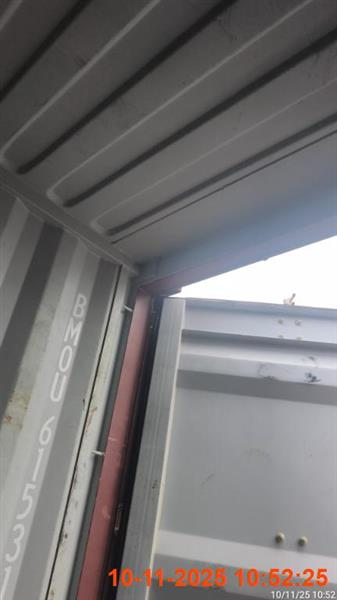rust: (0, 2, 335, 598)
